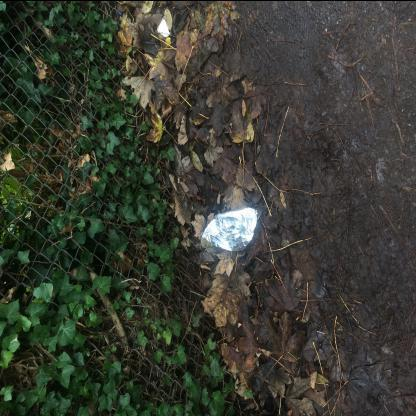metal: (203, 207, 259, 253)
